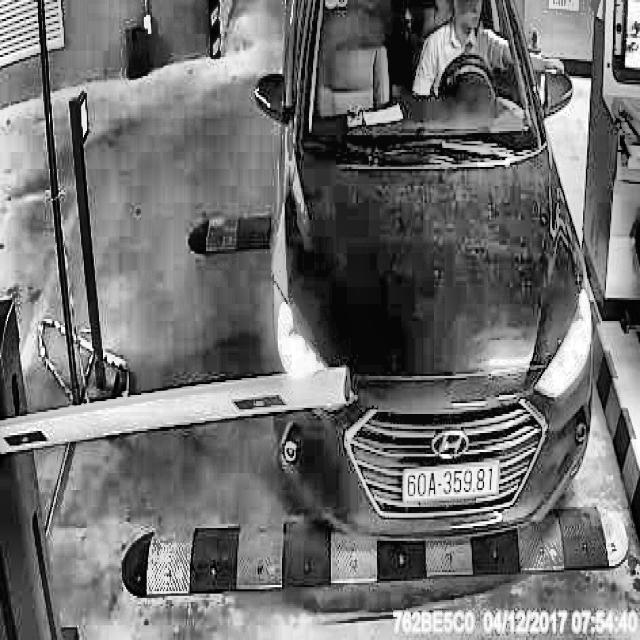plate: (399, 453, 502, 507)
